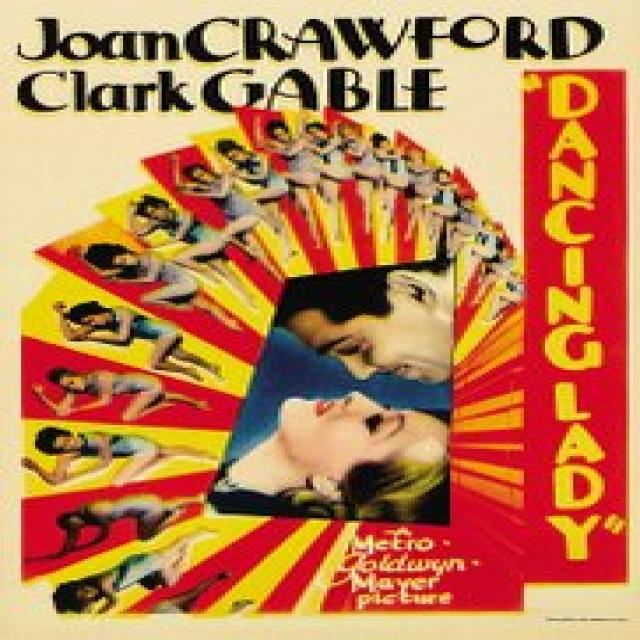movie-judul: (528, 71, 632, 586)
picture: (8, 110, 524, 619)
